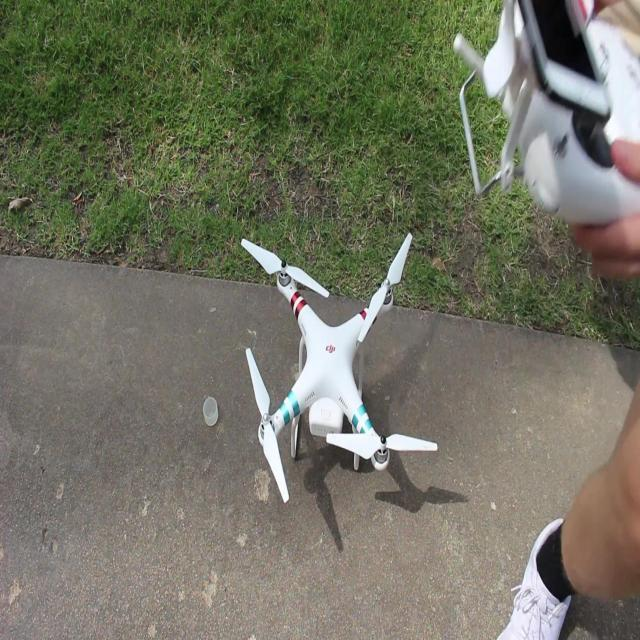drone: (238, 230, 436, 504)
